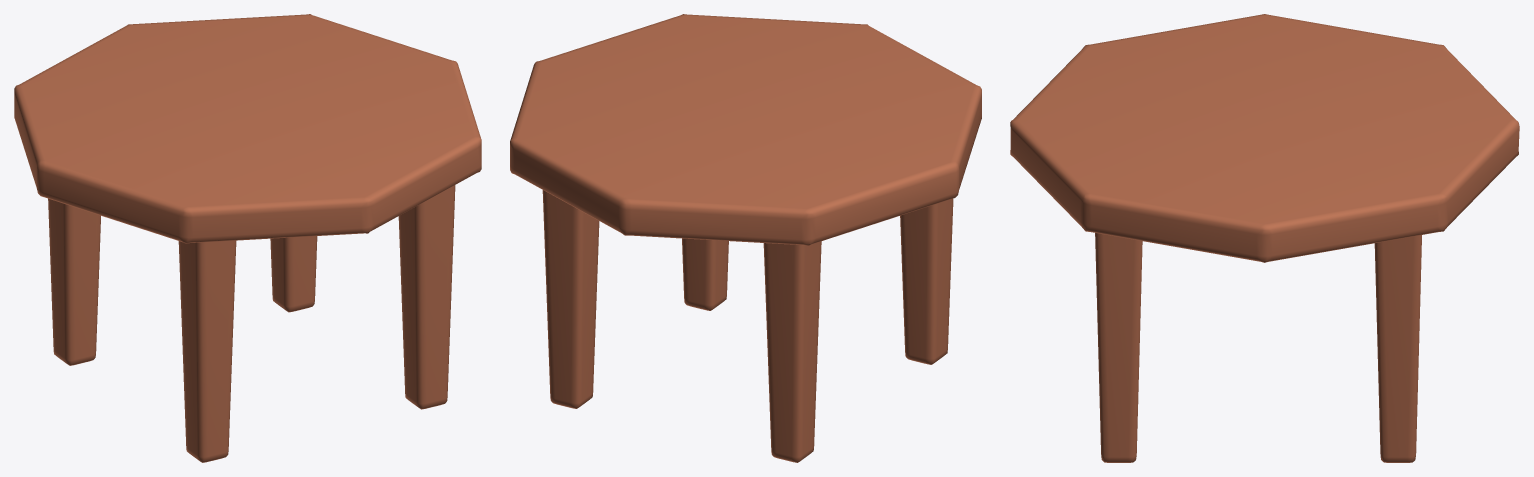
The model's file is table.glb.
3 renders of one model, left to right at view 1: azimuth 30°, elevation 25°; view 2: azimuth 150°, elevation 25°; view 3: azimuth 270°, elevation 25°, orthographic. The views are drawn at different scales.
Parts seen in each view (by area): view 1: KitchenTable; view 2: KitchenTable; view 3: KitchenTable.
Part boxes in pixels (x1,y1,x2,y2): KitchenTable: (14,14,481,462); KitchenTable: (510,14,981,462); KitchenTable: (1010,14,1519,462).
Bounding box in the file's own units: 0.8797 × 0.536 × 0.8797.
Materials: 1 (1 with a texture image).
